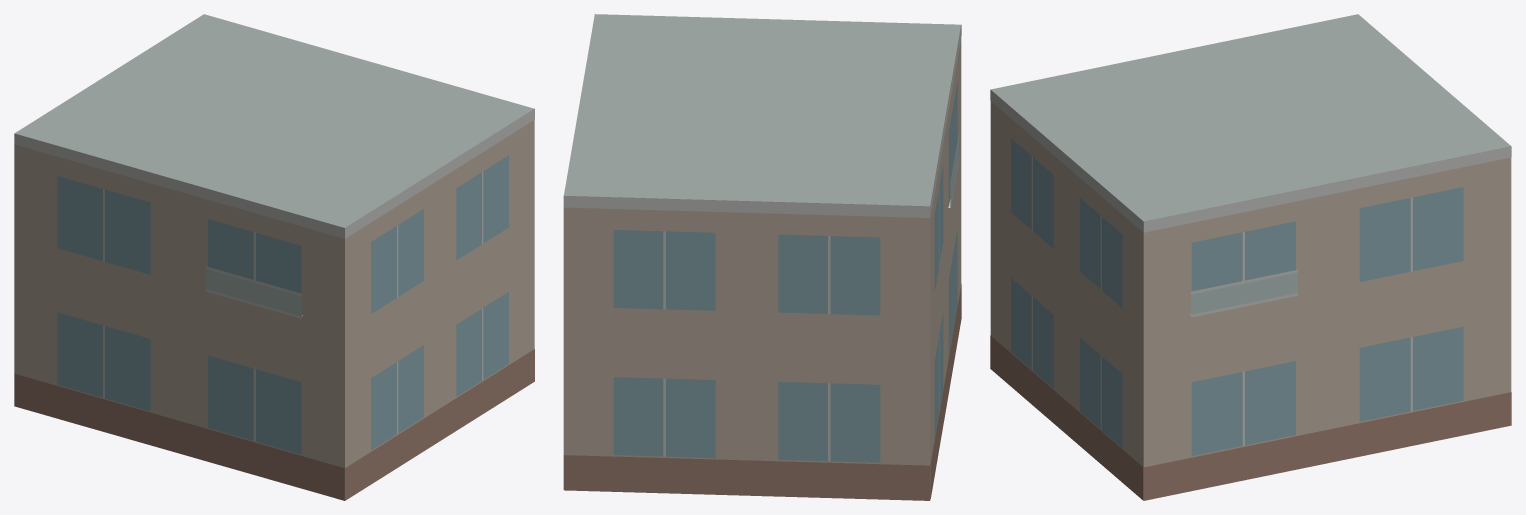
File: survey-upis-32827052.glb
3 renders of one model, left to right at view 1: azimuth 30°, elevation 25°; view 2: azimuth 150°, elevation 25°; view 3: azimuth 270°, elevation 25°, orthographic. The views are drawn at different scales.
Parts seen in each view (by area): view 1: survey-upis-32827052.tmp; view 2: survey-upis-32827052.tmp; view 3: survey-upis-32827052.tmp.
Part boxes in pixels (x1,y1,x2,y2): survey-upis-32827052.tmp: (14,14,534,500); survey-upis-32827052.tmp: (563,14,961,500); survey-upis-32827052.tmp: (990,14,1511,500).
Bounding box in the file's own units: 9.73 × 6.1 × 10.32.
